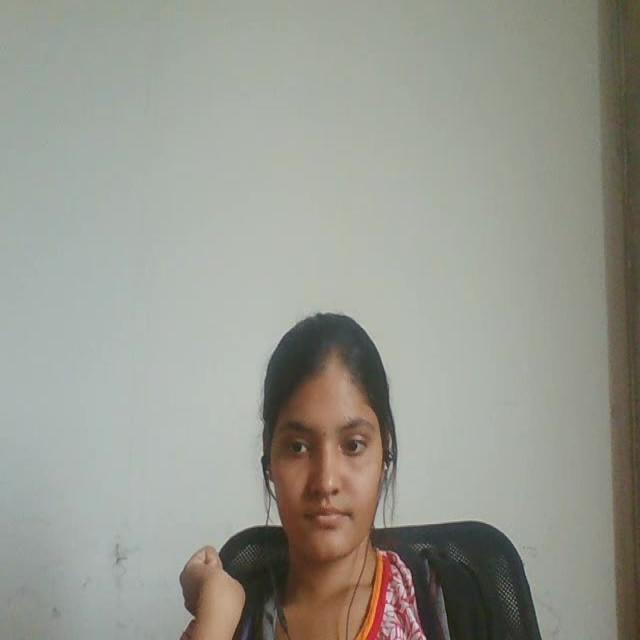Engaged: (221, 294, 430, 615)
